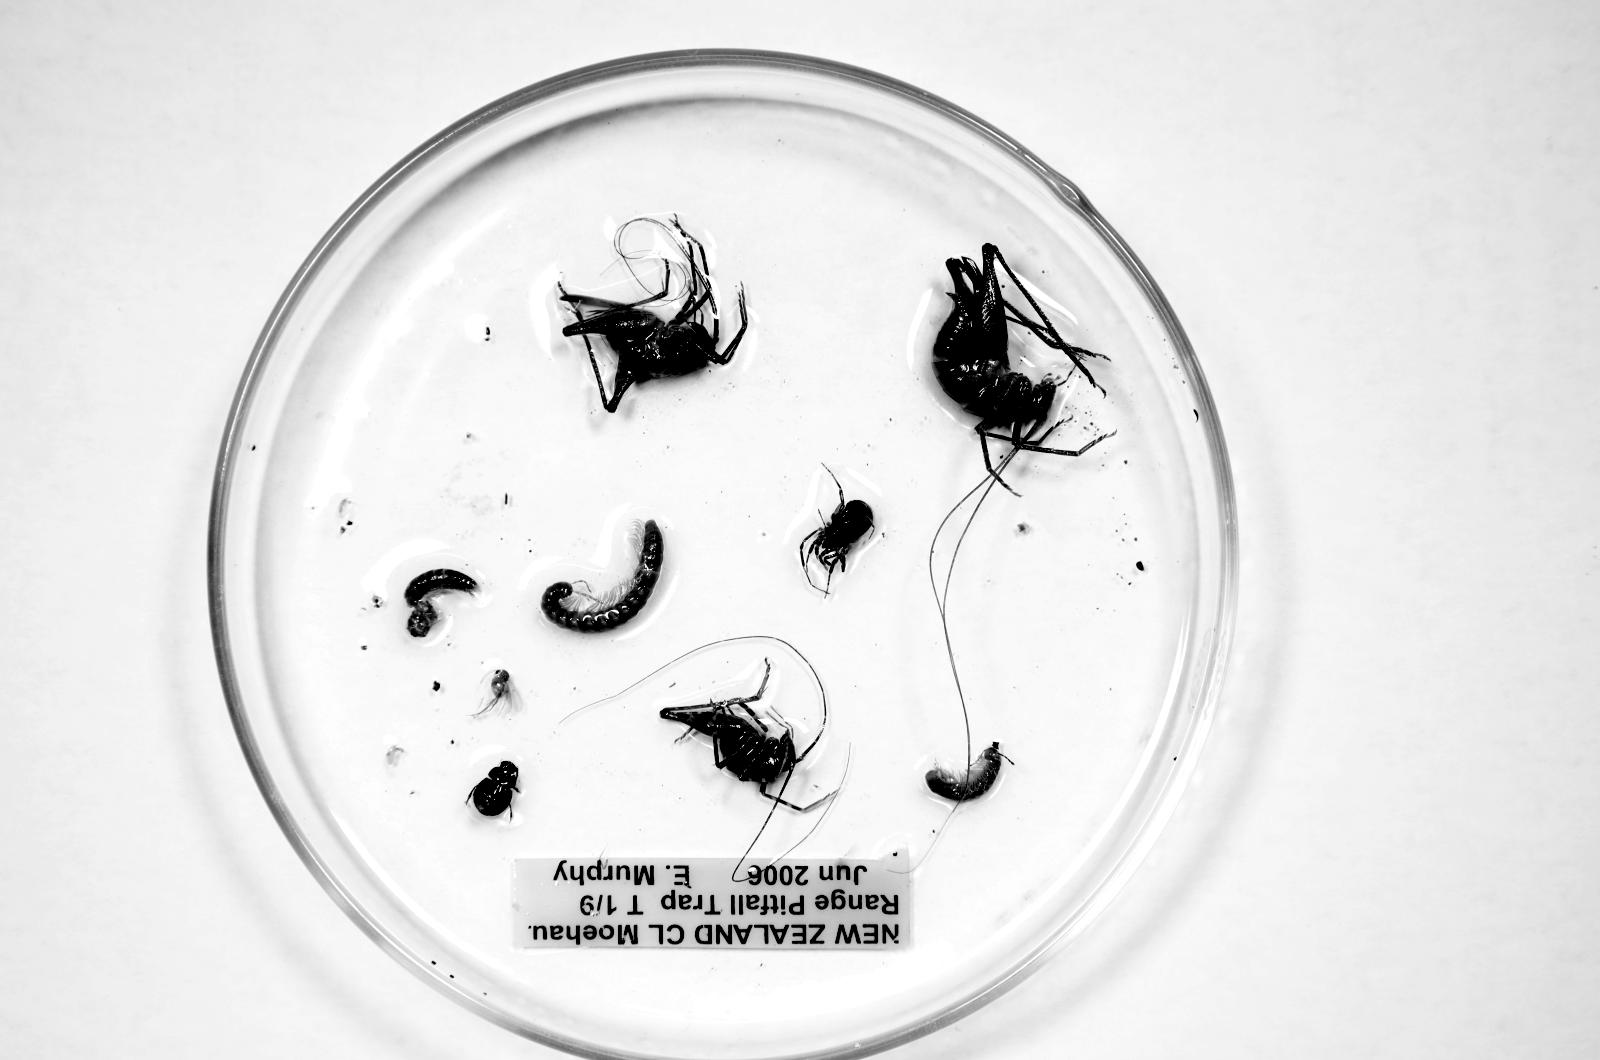coleoptera: (469, 761, 518, 816)
diplopoda: (543, 519, 663, 632)
diptera: (926, 742, 1004, 802), (473, 668, 523, 717)
opiliones: (801, 500, 874, 590)
orthoptera: (933, 244, 1115, 478), (558, 213, 749, 412), (660, 659, 830, 812)
